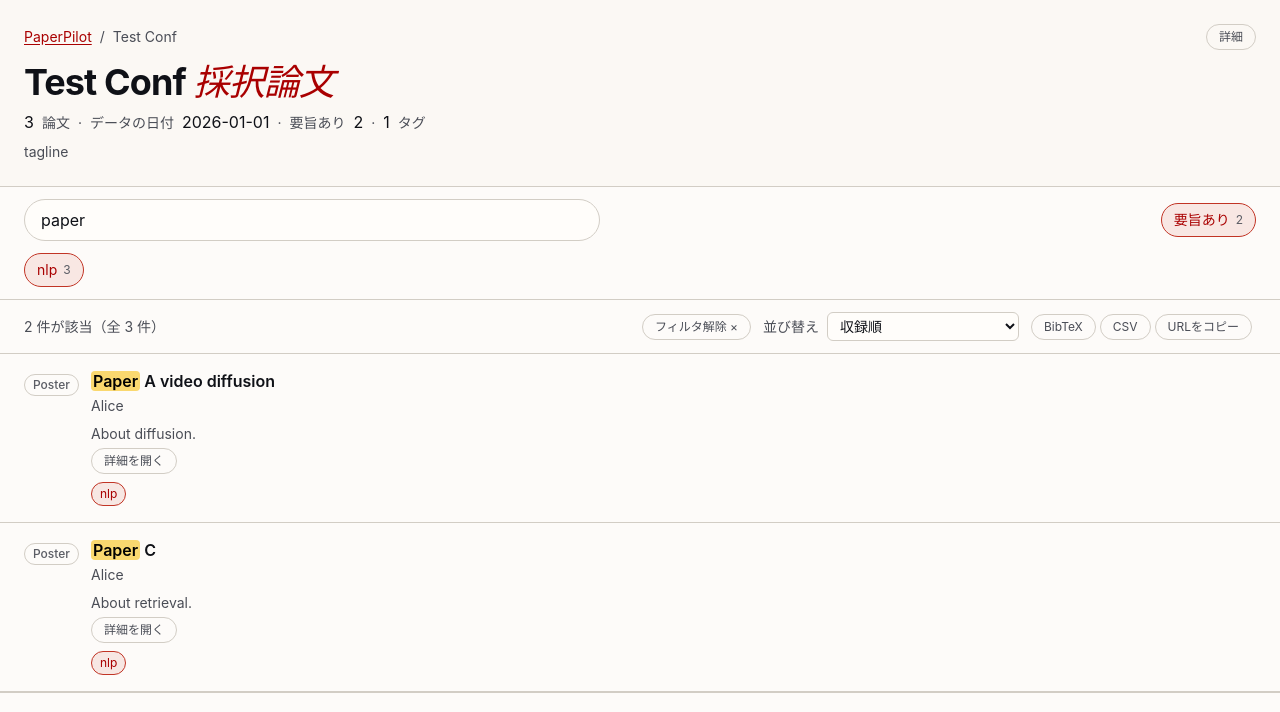
Test: CatalogApp UX audit (design doc 53) › フィルタ解除 clears search, tags, type and 要旨あり together
Check: the text "2 件が該当（全 3 件）" is shown, box [24,316,165,336]
What coordinates should you click on to do the following:
click the button "フィルタ解除 ×"
I would click on:
 (696, 326)
Its box is [642,314,751,340].
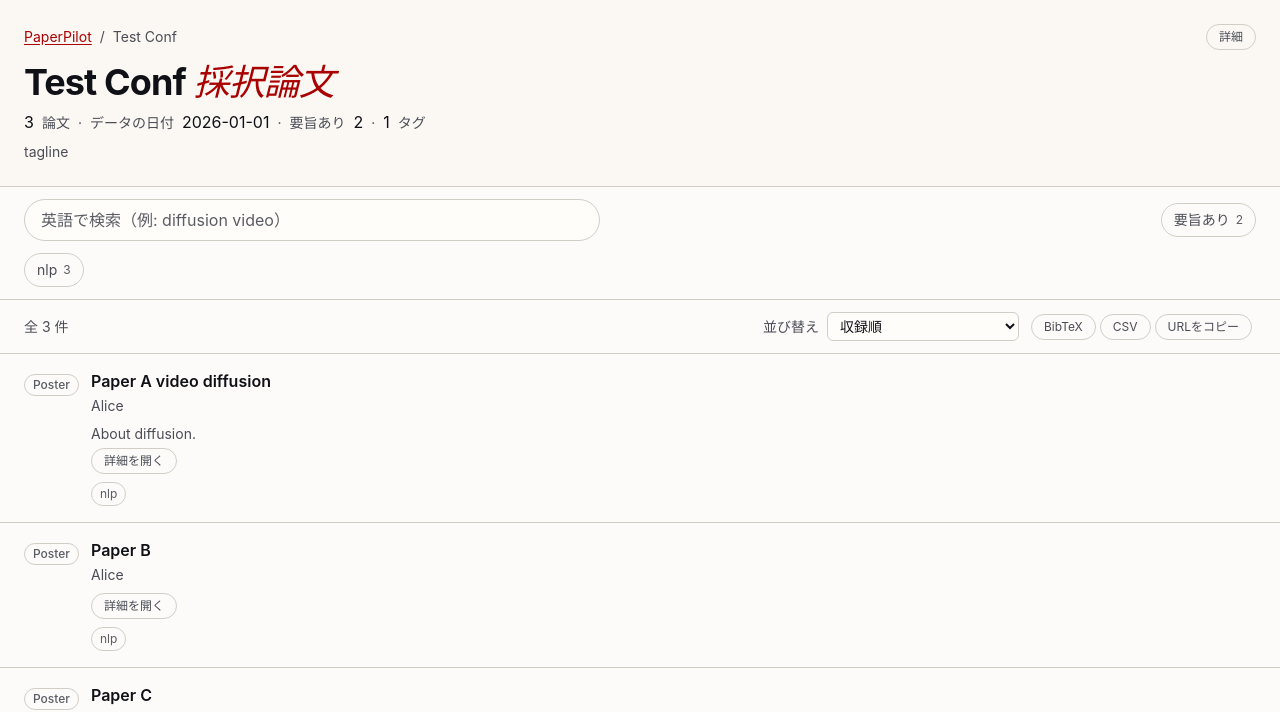
Check: the text "全 3 件" is shown, box [24,316,68,336]
Check: the search field with id "search" is empty, box [24,199,600,241]
